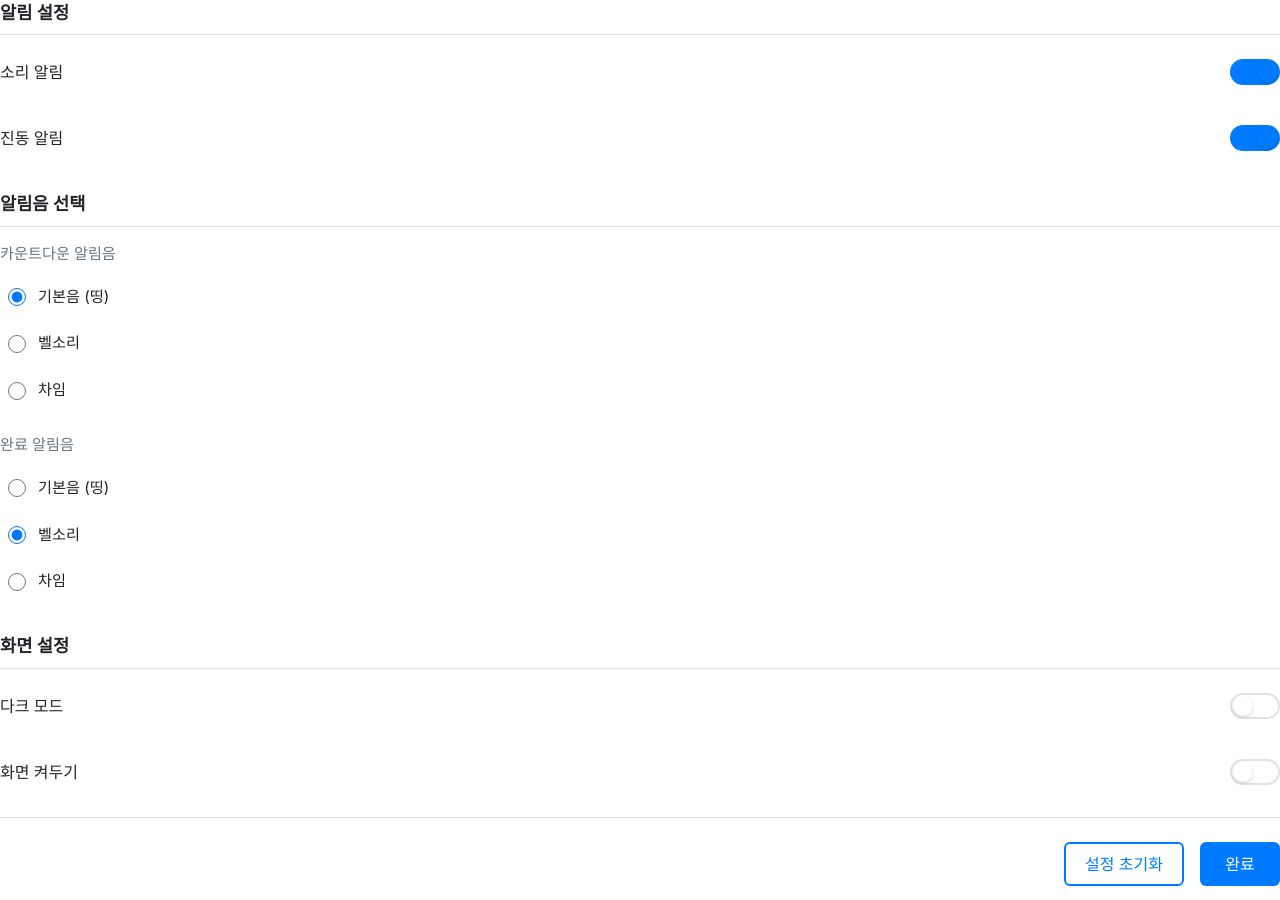
Test: Settings Component › toggles theme and applies to DOM
The image size is (1280, 900).
Click the switch named "다크 모드 켜기" at (1255, 706), box [1230, 692, 1279, 718]
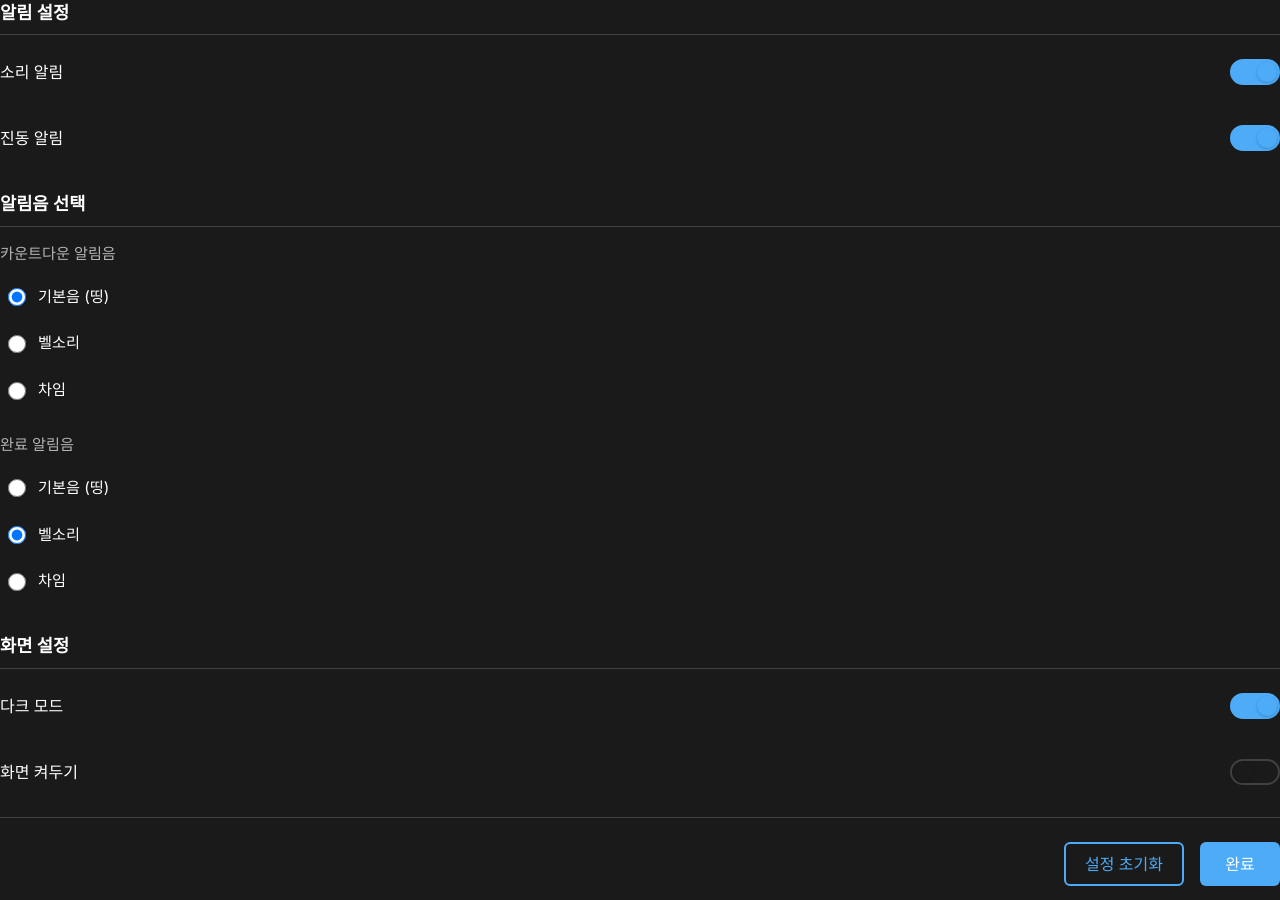
Check: the switch named "다크 모드 끄기" is shown
# Toggle back to light
Click the switch named "다크 모드 끄기" at (1255, 706), box [1230, 692, 1279, 718]
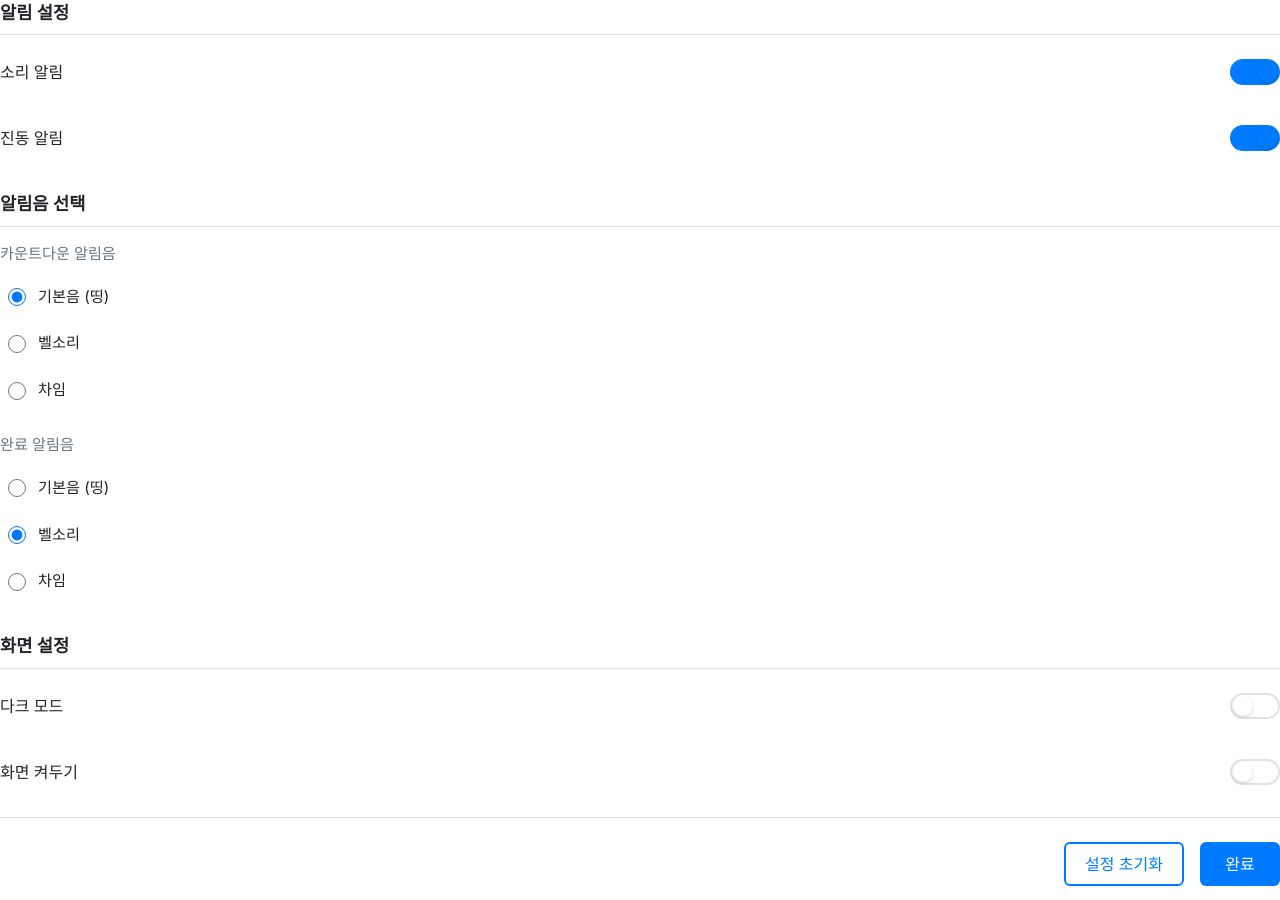
Check: the switch named "다크 모드 켜기" is shown, box [1230, 692, 1279, 718]
